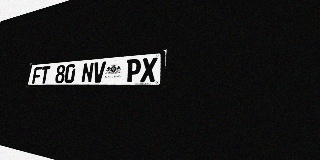plate: (26, 50, 167, 87)
